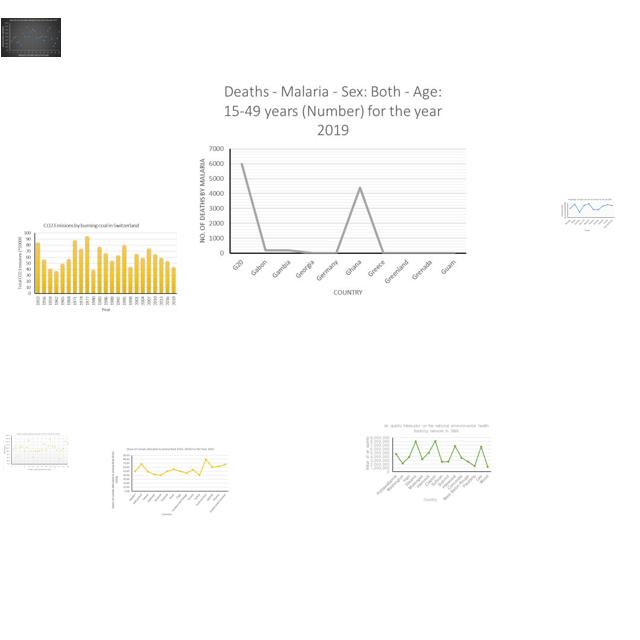Graph: (194, 81, 471, 298), (14, 221, 177, 313), (362, 422, 494, 505), (107, 445, 233, 518), (3, 432, 69, 471), (1, 18, 61, 57), (560, 198, 616, 232)
